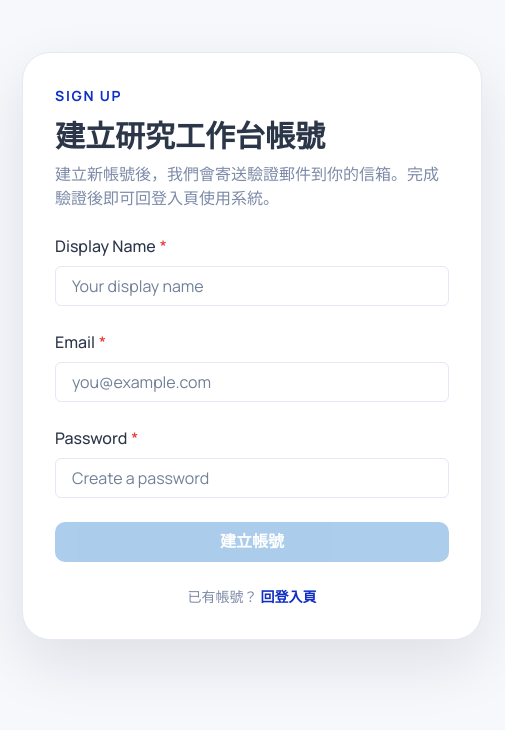
Test: Signup › shows error state when signup fails
This screenshot has width=505, height=730.
Type "Test User" into the field labelled "Display Name*" at (252, 286), box x1=55 y1=266 x2=449 y2=306
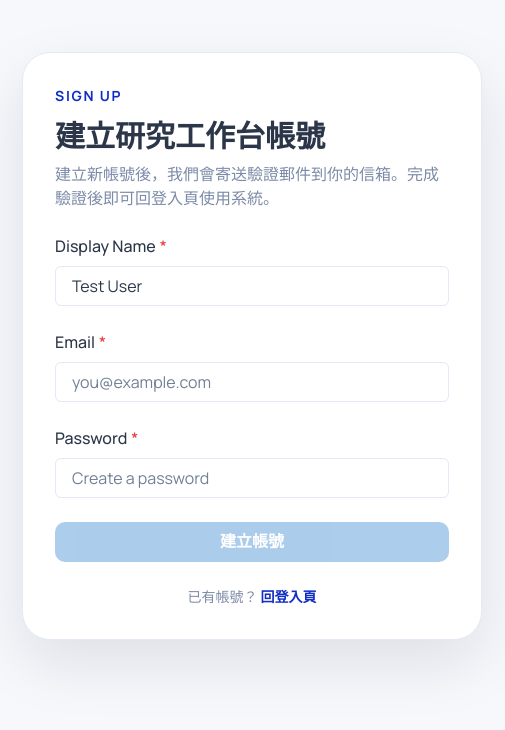
Type "user@example.com" into the field labelled "Email*" at (252, 382), box x1=55 y1=362 x2=449 y2=402
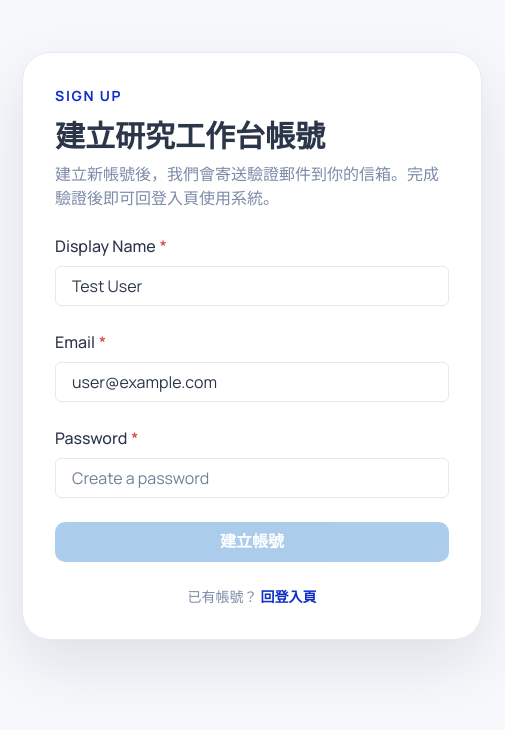
Type "secret-pass" into the password field labelled "Password*" at (252, 478), box x1=55 y1=458 x2=449 y2=498
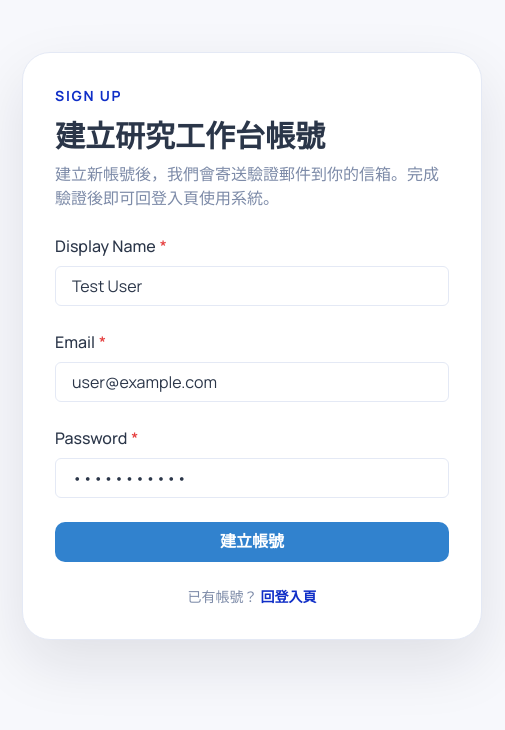
Click the button "建立帳號" at (252, 542), box x1=55 y1=522 x2=449 y2=562
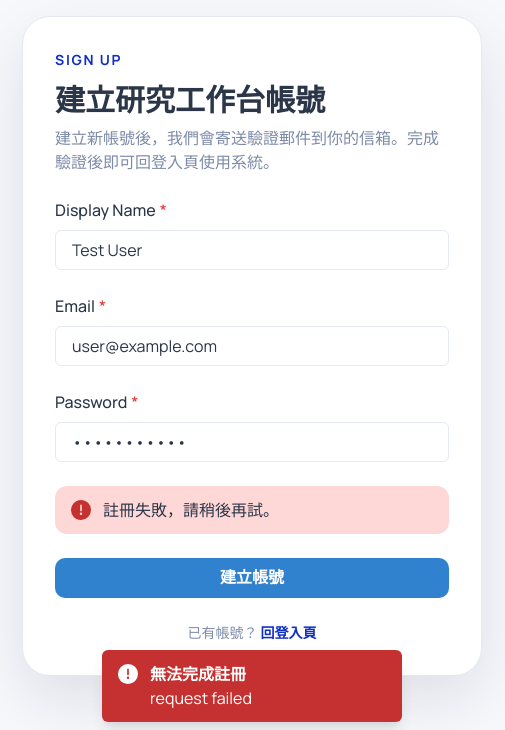
expect the text "註冊失敗，請稍後再試。" is shown: met, box x1=103 y1=498 x2=279 y2=522
